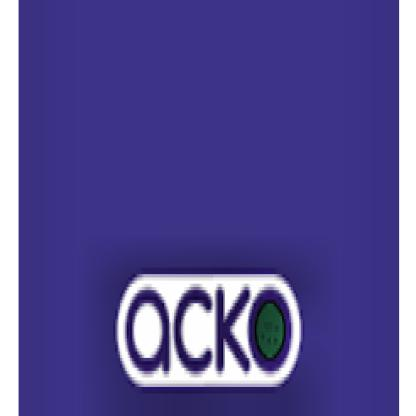ACKO: (116, 272, 302, 389)
